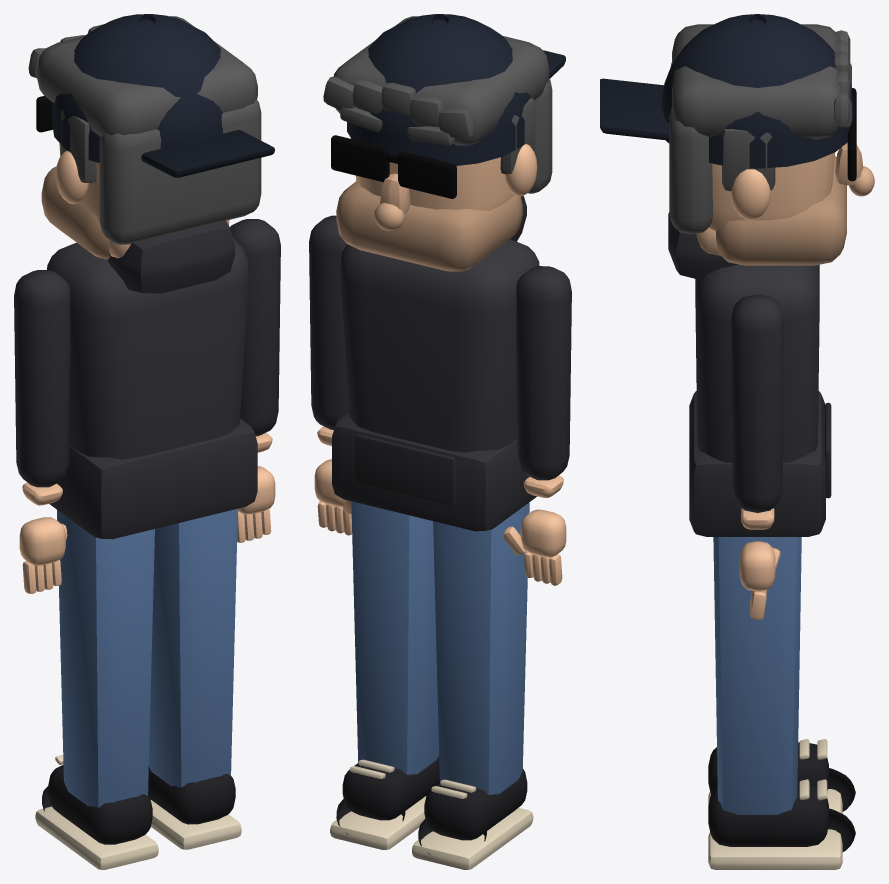
File: chill.glb
3 views of the same model, side by side, from view 1: azimuth 30°, elevation 25°; view 2: azimuth 150°, elevation 25°; view 3: azimuth 270°, elevation 25° (orthographic).
Parts seen in each view (by area): view 1: torso, legL, legR, armL, hair_head_hair_13, hat_head_hat_16, armR, hairtop_head_hair_13, head, hat_head_hat2_17; view 2: torso, legL, legR, head, armL, hat_head_hat_16, hairtop_head_hair_13, armR, hair_head_hair_13; view 3: legR, torso, head, armR, hat_head_hat_16, hairtop_head_hair_13, hair_head_hair_13, hat_head_hat2_17, legL.
Part boxes in pixels (x1,y1,x2,y2): torso: [47, 221, 257, 539]; legL: [35, 510, 158, 869]; legR: [147, 508, 241, 849]; armL: [14, 270, 70, 593]; hair_head_hair_13: [60, 99, 261, 244]; hat_head_hat_16: [52, 14, 222, 162]; armR: [230, 219, 280, 542]; hairtop_head_hair_13: [28, 16, 257, 136]; head: [36, 96, 229, 259]; hat_head_hat2_17: [139, 14, 274, 177]; torso: [332, 196, 539, 531]; legL: [412, 502, 533, 869]; legR: [330, 501, 439, 849]; head: [331, 107, 537, 271]; armL: [503, 266, 571, 585]; hat_head_hat_16: [347, 14, 530, 165]; hairtop_head_hair_13: [323, 16, 549, 145]; armR: [309, 215, 352, 535]; hair_head_hair_13: [500, 78, 552, 193]; legR: [708, 537, 855, 869]; torso: [668, 212, 831, 536]; head: [696, 63, 874, 265]; armR: [731, 294, 783, 619]; hat_head_hat_16: [661, 14, 853, 168]; hairtop_head_hair_13: [672, 24, 850, 139]; hair_head_hair_13: [669, 62, 775, 234]; hat_head_hat2_17: [600, 14, 765, 140]; legL: [708, 739, 855, 813].
Size of the model in its own units: 0.6623 by 2.03 by 0.6149.
